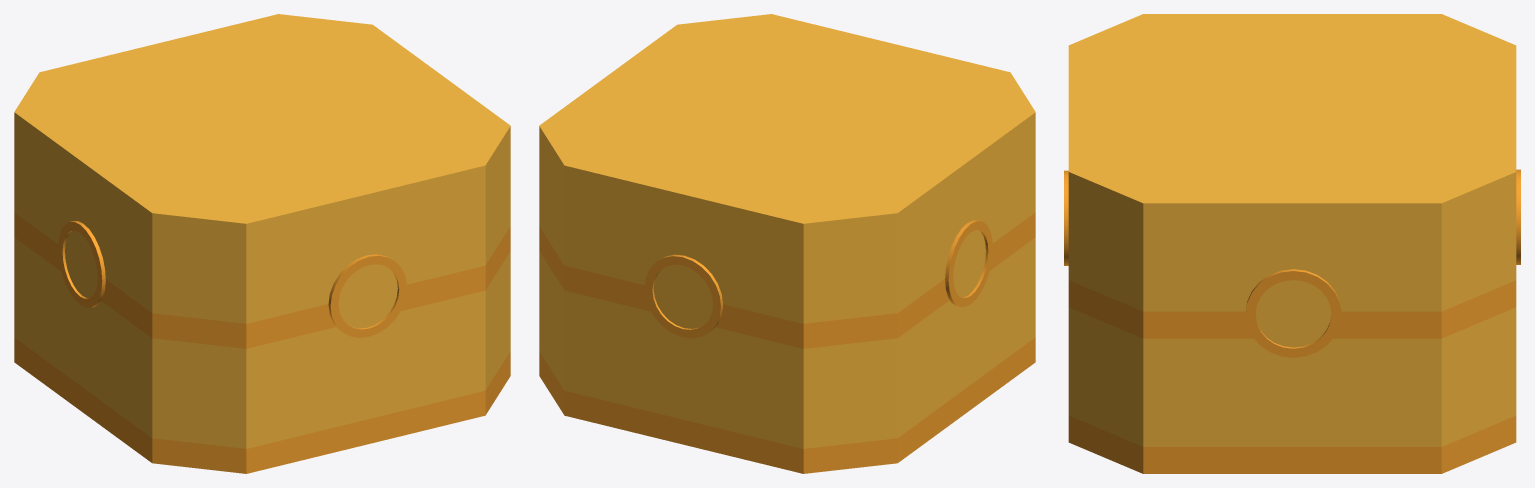
The model's file is m_block.fbx.
3 views of the same model, side by side, from view 1: azimuth 30°, elevation 25°; view 2: azimuth 150°, elevation 25°; view 3: azimuth 270°, elevation 25° (orthographic). The views are drawn at different scales.
Visible parts, largest first — view 1: mergedBlocks; view 2: mergedBlocks; view 3: mergedBlocks.
Part boxes in pixels (box(x1,y1,x2,y2)): mergedBlocks: box(14, 14, 510, 473); mergedBlocks: box(539, 14, 1035, 473); mergedBlocks: box(1064, 14, 1520, 473).
Bounding box in the file's own units: 30.6 × 20 × 30.6.
